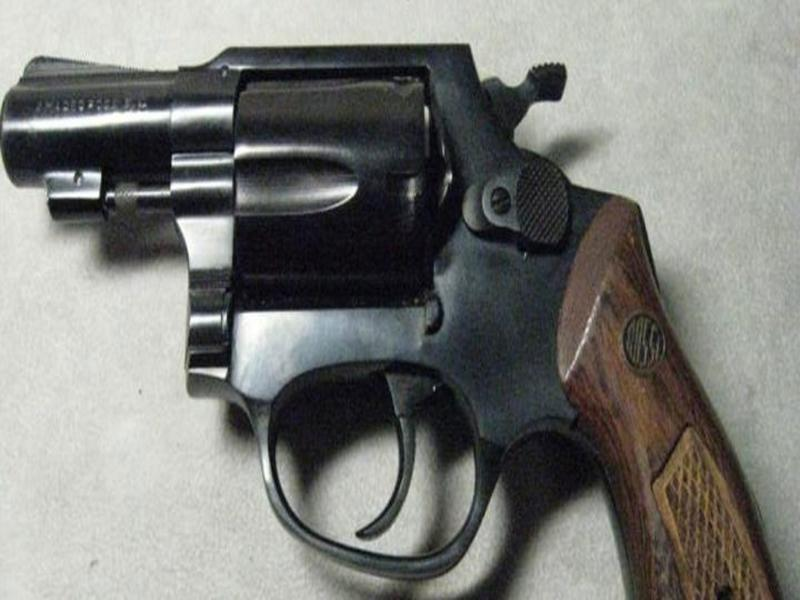Revolver: (1, 36, 645, 488)
